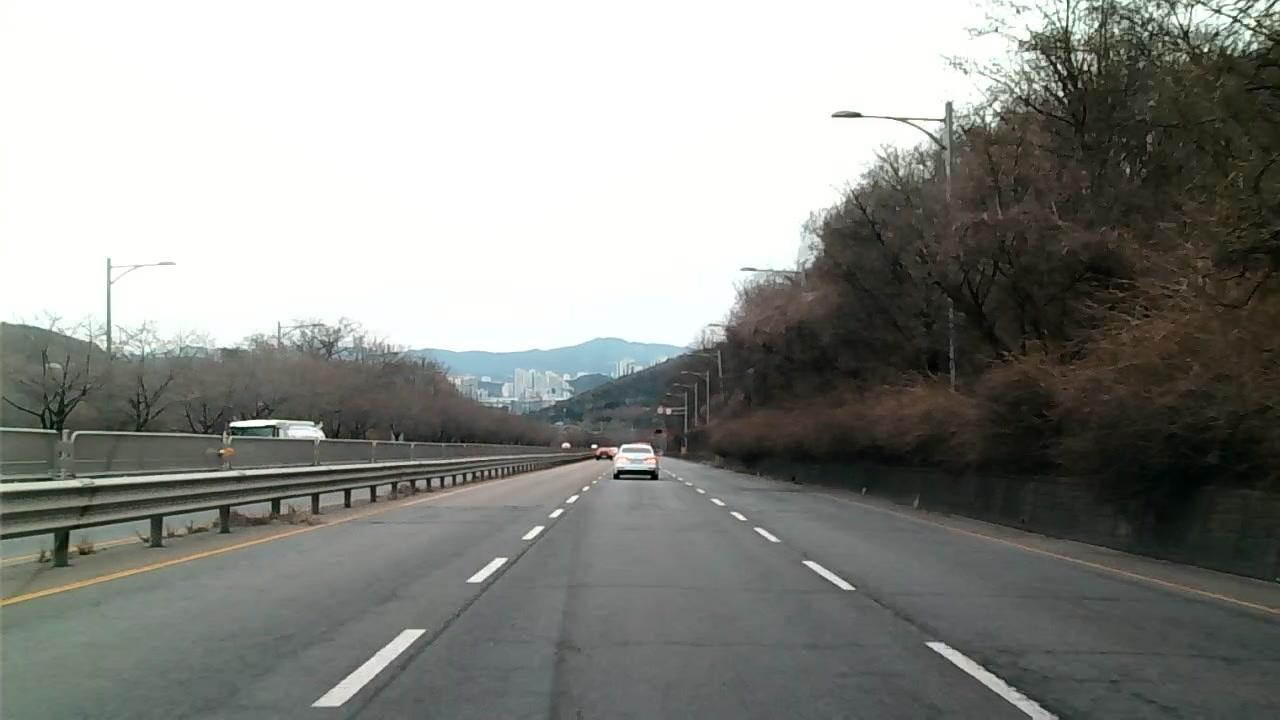hcrack: (1030, 640, 1266, 670)
vcrack: (340, 514, 562, 720), (975, 658, 1068, 720), (866, 591, 945, 643)
